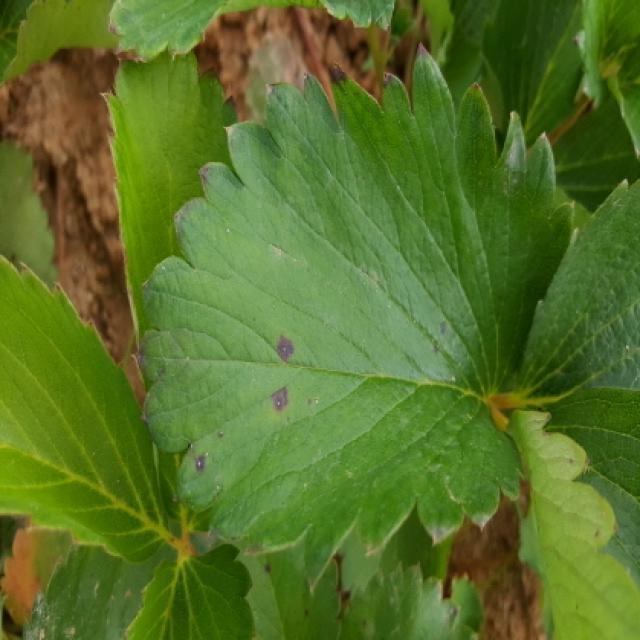Leaf Spot: (138, 40, 576, 596), (241, 539, 343, 638)
